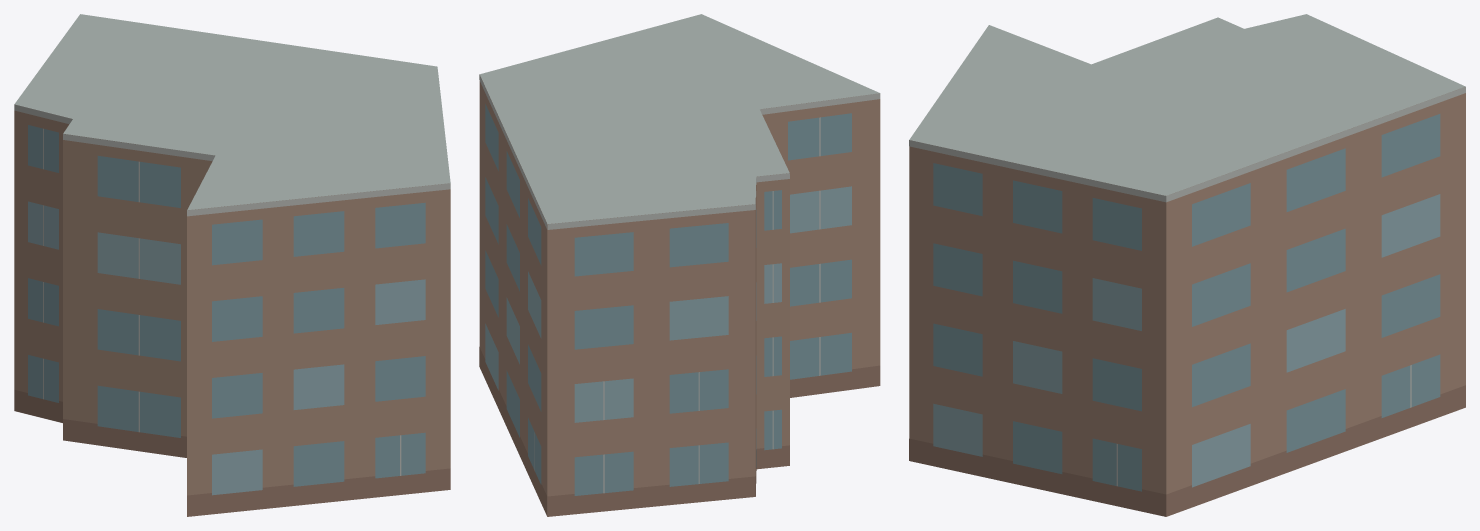
The model's file is survey-upis-32628342.glb.
3 renders of one model, left to right at view 1: azimuth 30°, elevation 25°; view 2: azimuth 150°, elevation 25°; view 3: azimuth 270°, elevation 25°, orthographic. The views are drawn at different scales.
Visible parts, largest first — view 1: survey-upis-32628342.tmp; view 2: survey-upis-32628342.tmp; view 3: survey-upis-32628342.tmp.
Part boxes in pixels (x1,y1,x2,y2): survey-upis-32628342.tmp: [14, 14, 450, 516]; survey-upis-32628342.tmp: [479, 14, 880, 516]; survey-upis-32628342.tmp: [909, 14, 1465, 516].
Size of the model in its own units: 14.84 by 12.2 by 19.19.
